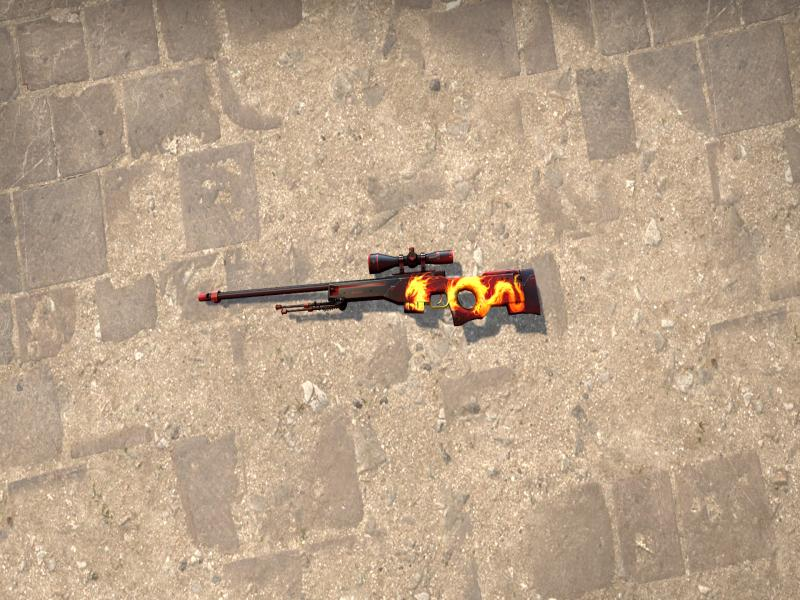AWP: (198, 247, 542, 325)
